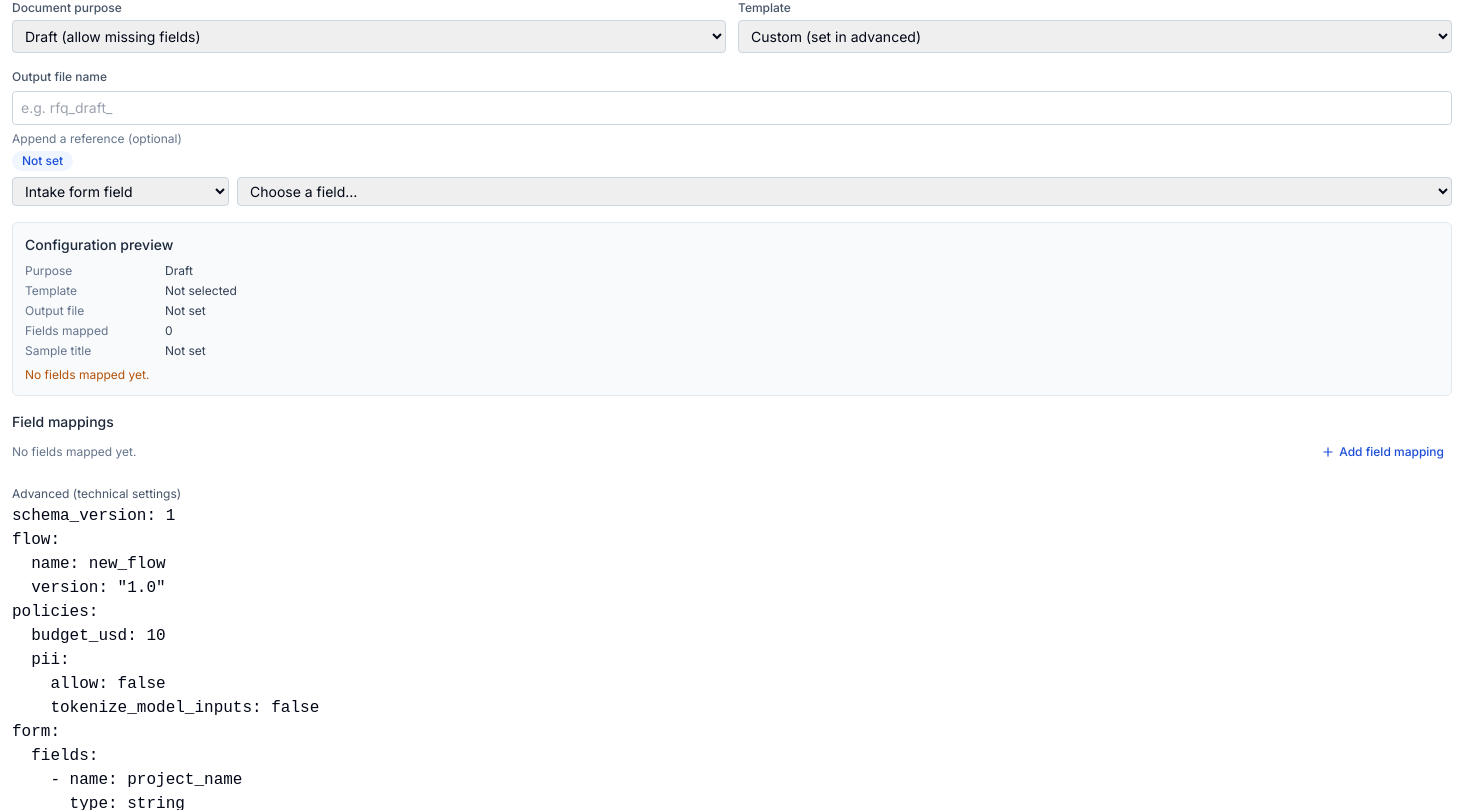
Scenario: DocumentGenerationEditor › switches the document purpose between draft and final (require_all)
Select "Final (all fields required)" in the dropdown named "document purpose" at (369, 36), box [12,20,726,53]
(page scrolled)
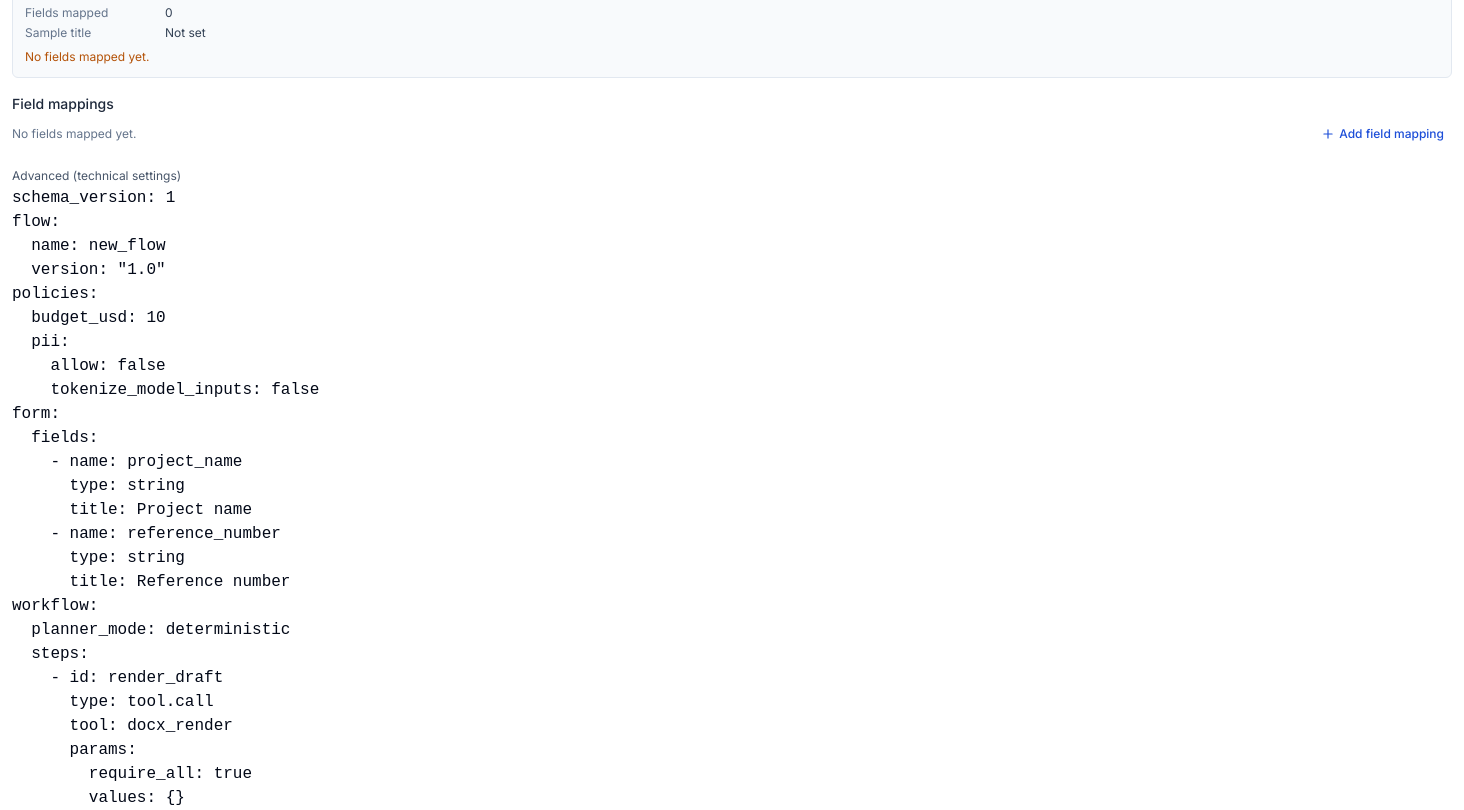
Check: the text with test id "yaml" shows "require_all: true", box [12,189,319,807]
